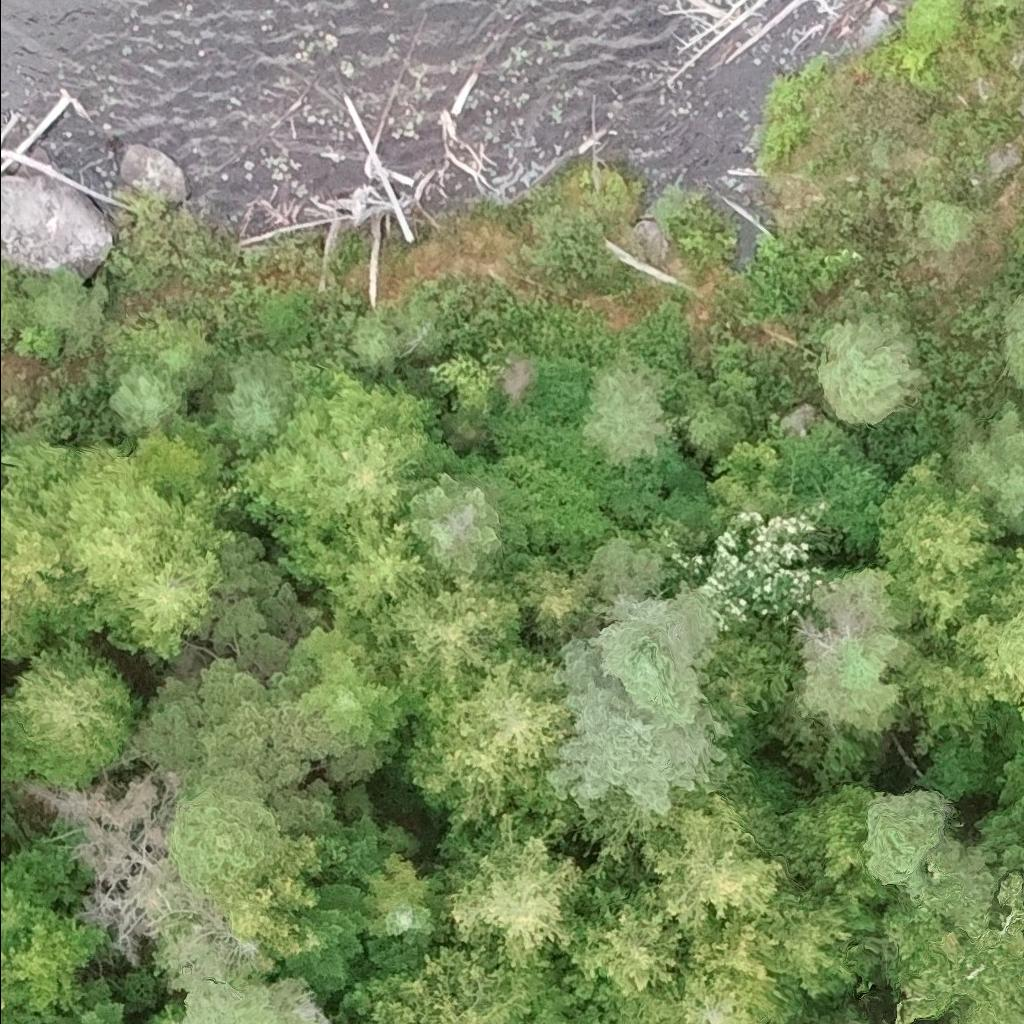crown: (0, 436, 231, 633), (233, 369, 440, 553), (393, 643, 572, 852), (542, 636, 732, 818), (882, 834, 1023, 1023), (438, 814, 592, 981), (0, 628, 139, 787), (638, 790, 792, 930), (906, 549, 1023, 731), (615, 911, 802, 1023), (587, 579, 721, 727), (286, 618, 417, 761), (363, 570, 525, 685), (876, 447, 1009, 583), (277, 510, 433, 625), (339, 942, 535, 1023), (92, 546, 227, 662), (558, 879, 686, 999), (169, 767, 284, 893), (792, 631, 920, 741), (754, 887, 879, 999), (773, 778, 886, 901), (275, 874, 374, 1003), (392, 472, 503, 584), (817, 307, 923, 424), (0, 481, 60, 667), (890, 555, 1006, 650), (946, 397, 1023, 537), (581, 350, 670, 470), (858, 788, 945, 901), (501, 555, 595, 644), (0, 844, 76, 947), (167, 975, 311, 1023), (360, 897, 447, 975), (666, 390, 748, 458), (333, 815, 393, 894), (44, 977, 132, 1023), (908, 0, 972, 54), (0, 947, 39, 1023), (1001, 293, 1023, 385), (813, 1010, 869, 1023), (152, 1006, 178, 1023), (1021, 720, 1023, 744), (1021, 292, 1023, 297)
